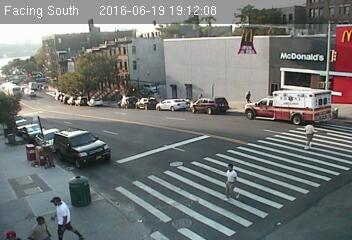neg: (117, 62, 145, 99), (280, 45, 305, 78), (5, 172, 29, 205), (171, 202, 195, 234), (122, 200, 144, 229), (146, 73, 167, 101), (74, 159, 94, 186), (28, 142, 48, 168), (261, 100, 279, 123), (11, 126, 25, 144), (64, 131, 74, 145)
pos: (212, 158, 245, 202), (46, 189, 76, 229), (295, 117, 322, 152), (30, 210, 52, 239), (239, 86, 254, 105)
